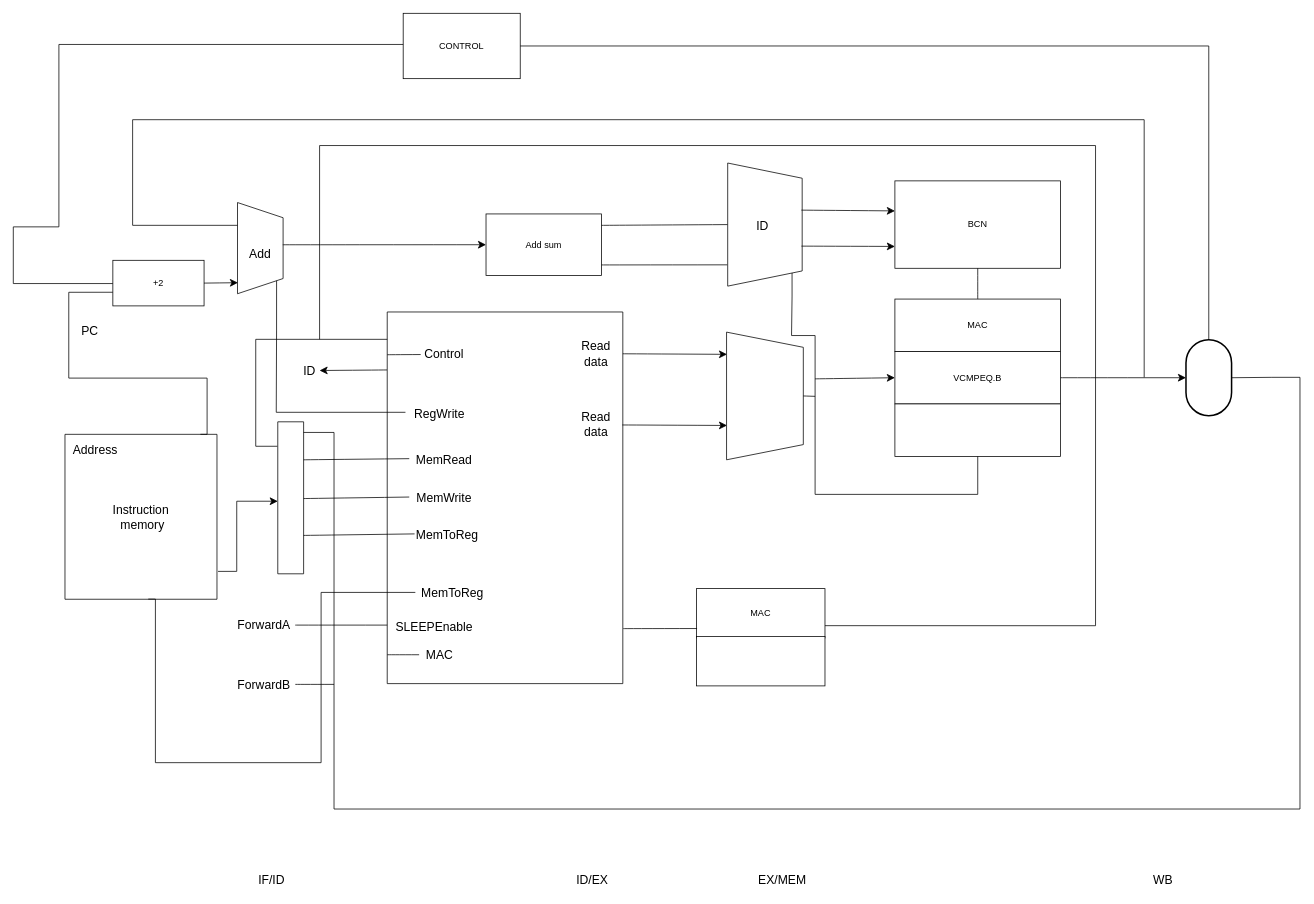
Image size: 1314x904. Some labels were removed from this diagram. The centre of each missing label's shape, as x and y in pixels:
"ALU" belongs at (764,395).
"BCNT" belongs at (977,429).
"MUX" belongs at (1208,377).
"SLEEPM" belongs at (760,661).
